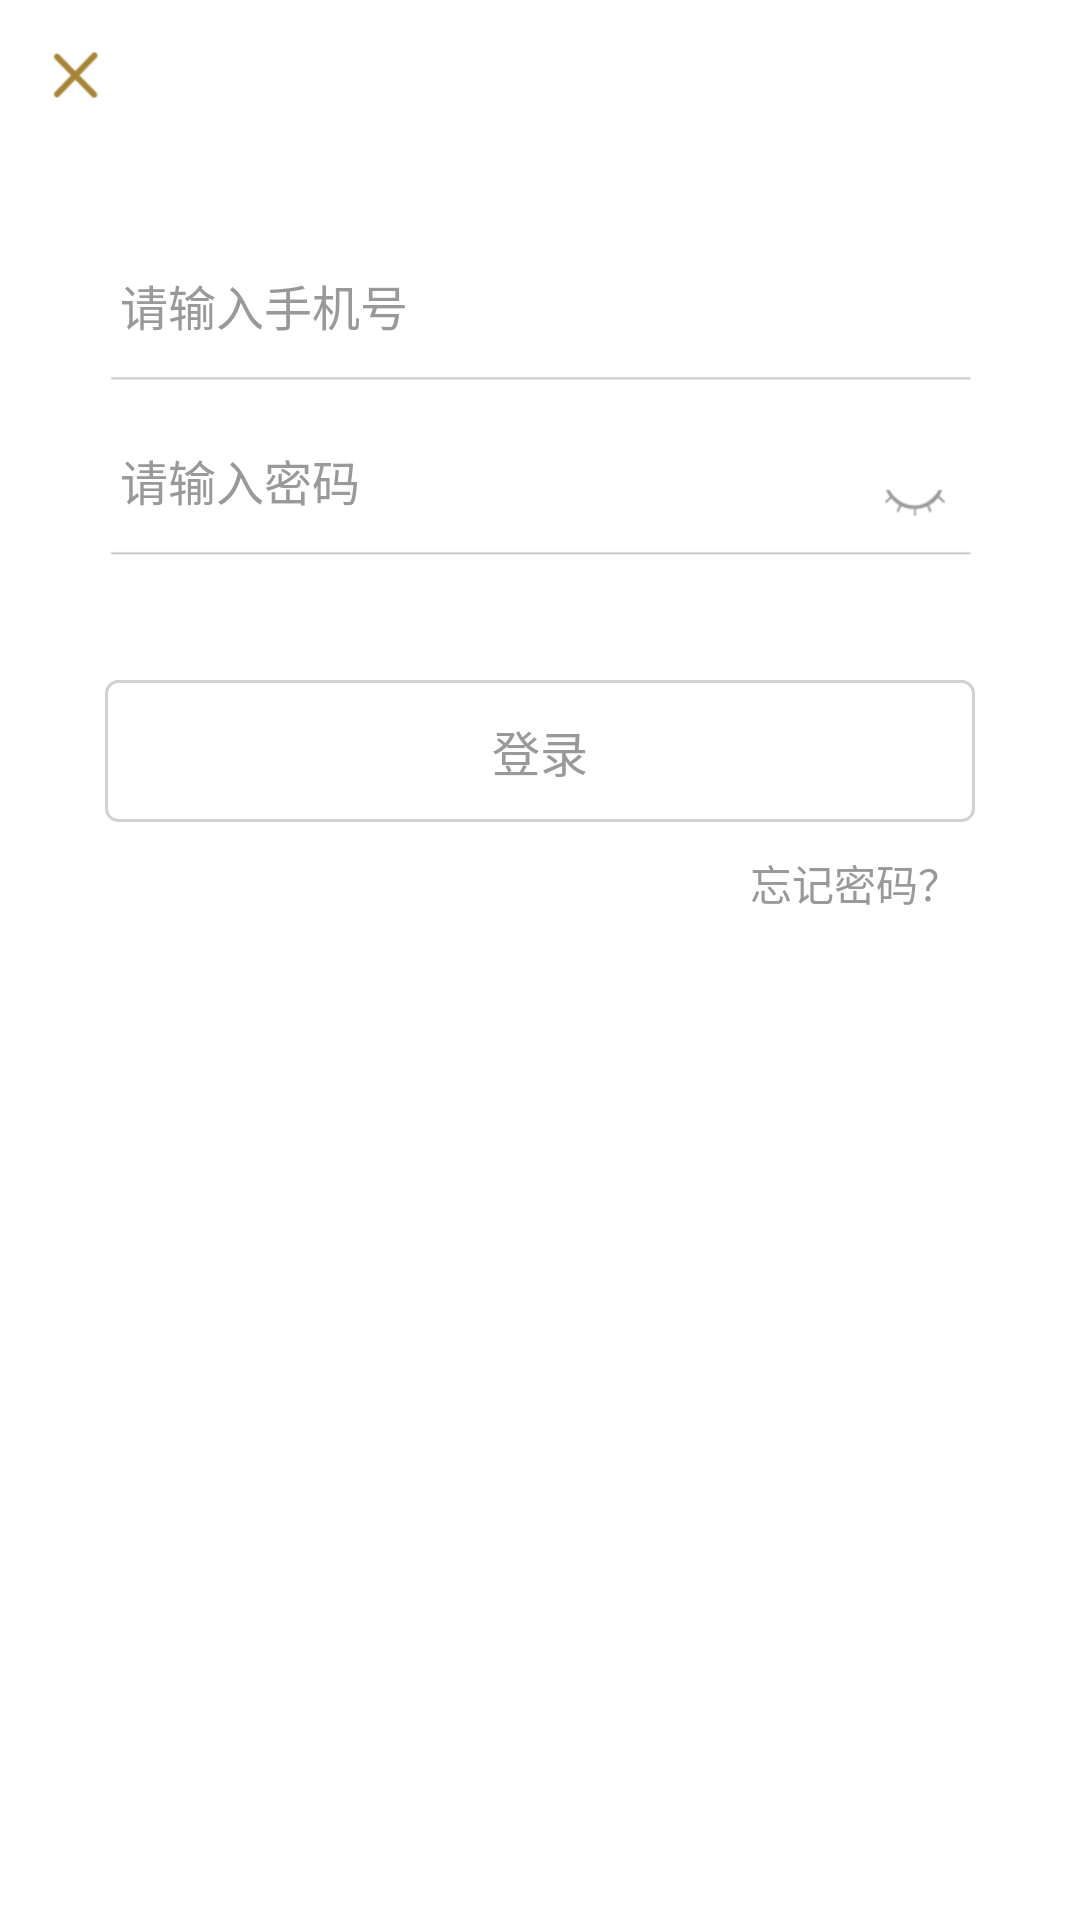

Named icons in this screenshot (1080x1920) and their centers, [x,y]:
close: [75,75]
password see: [915,503]
